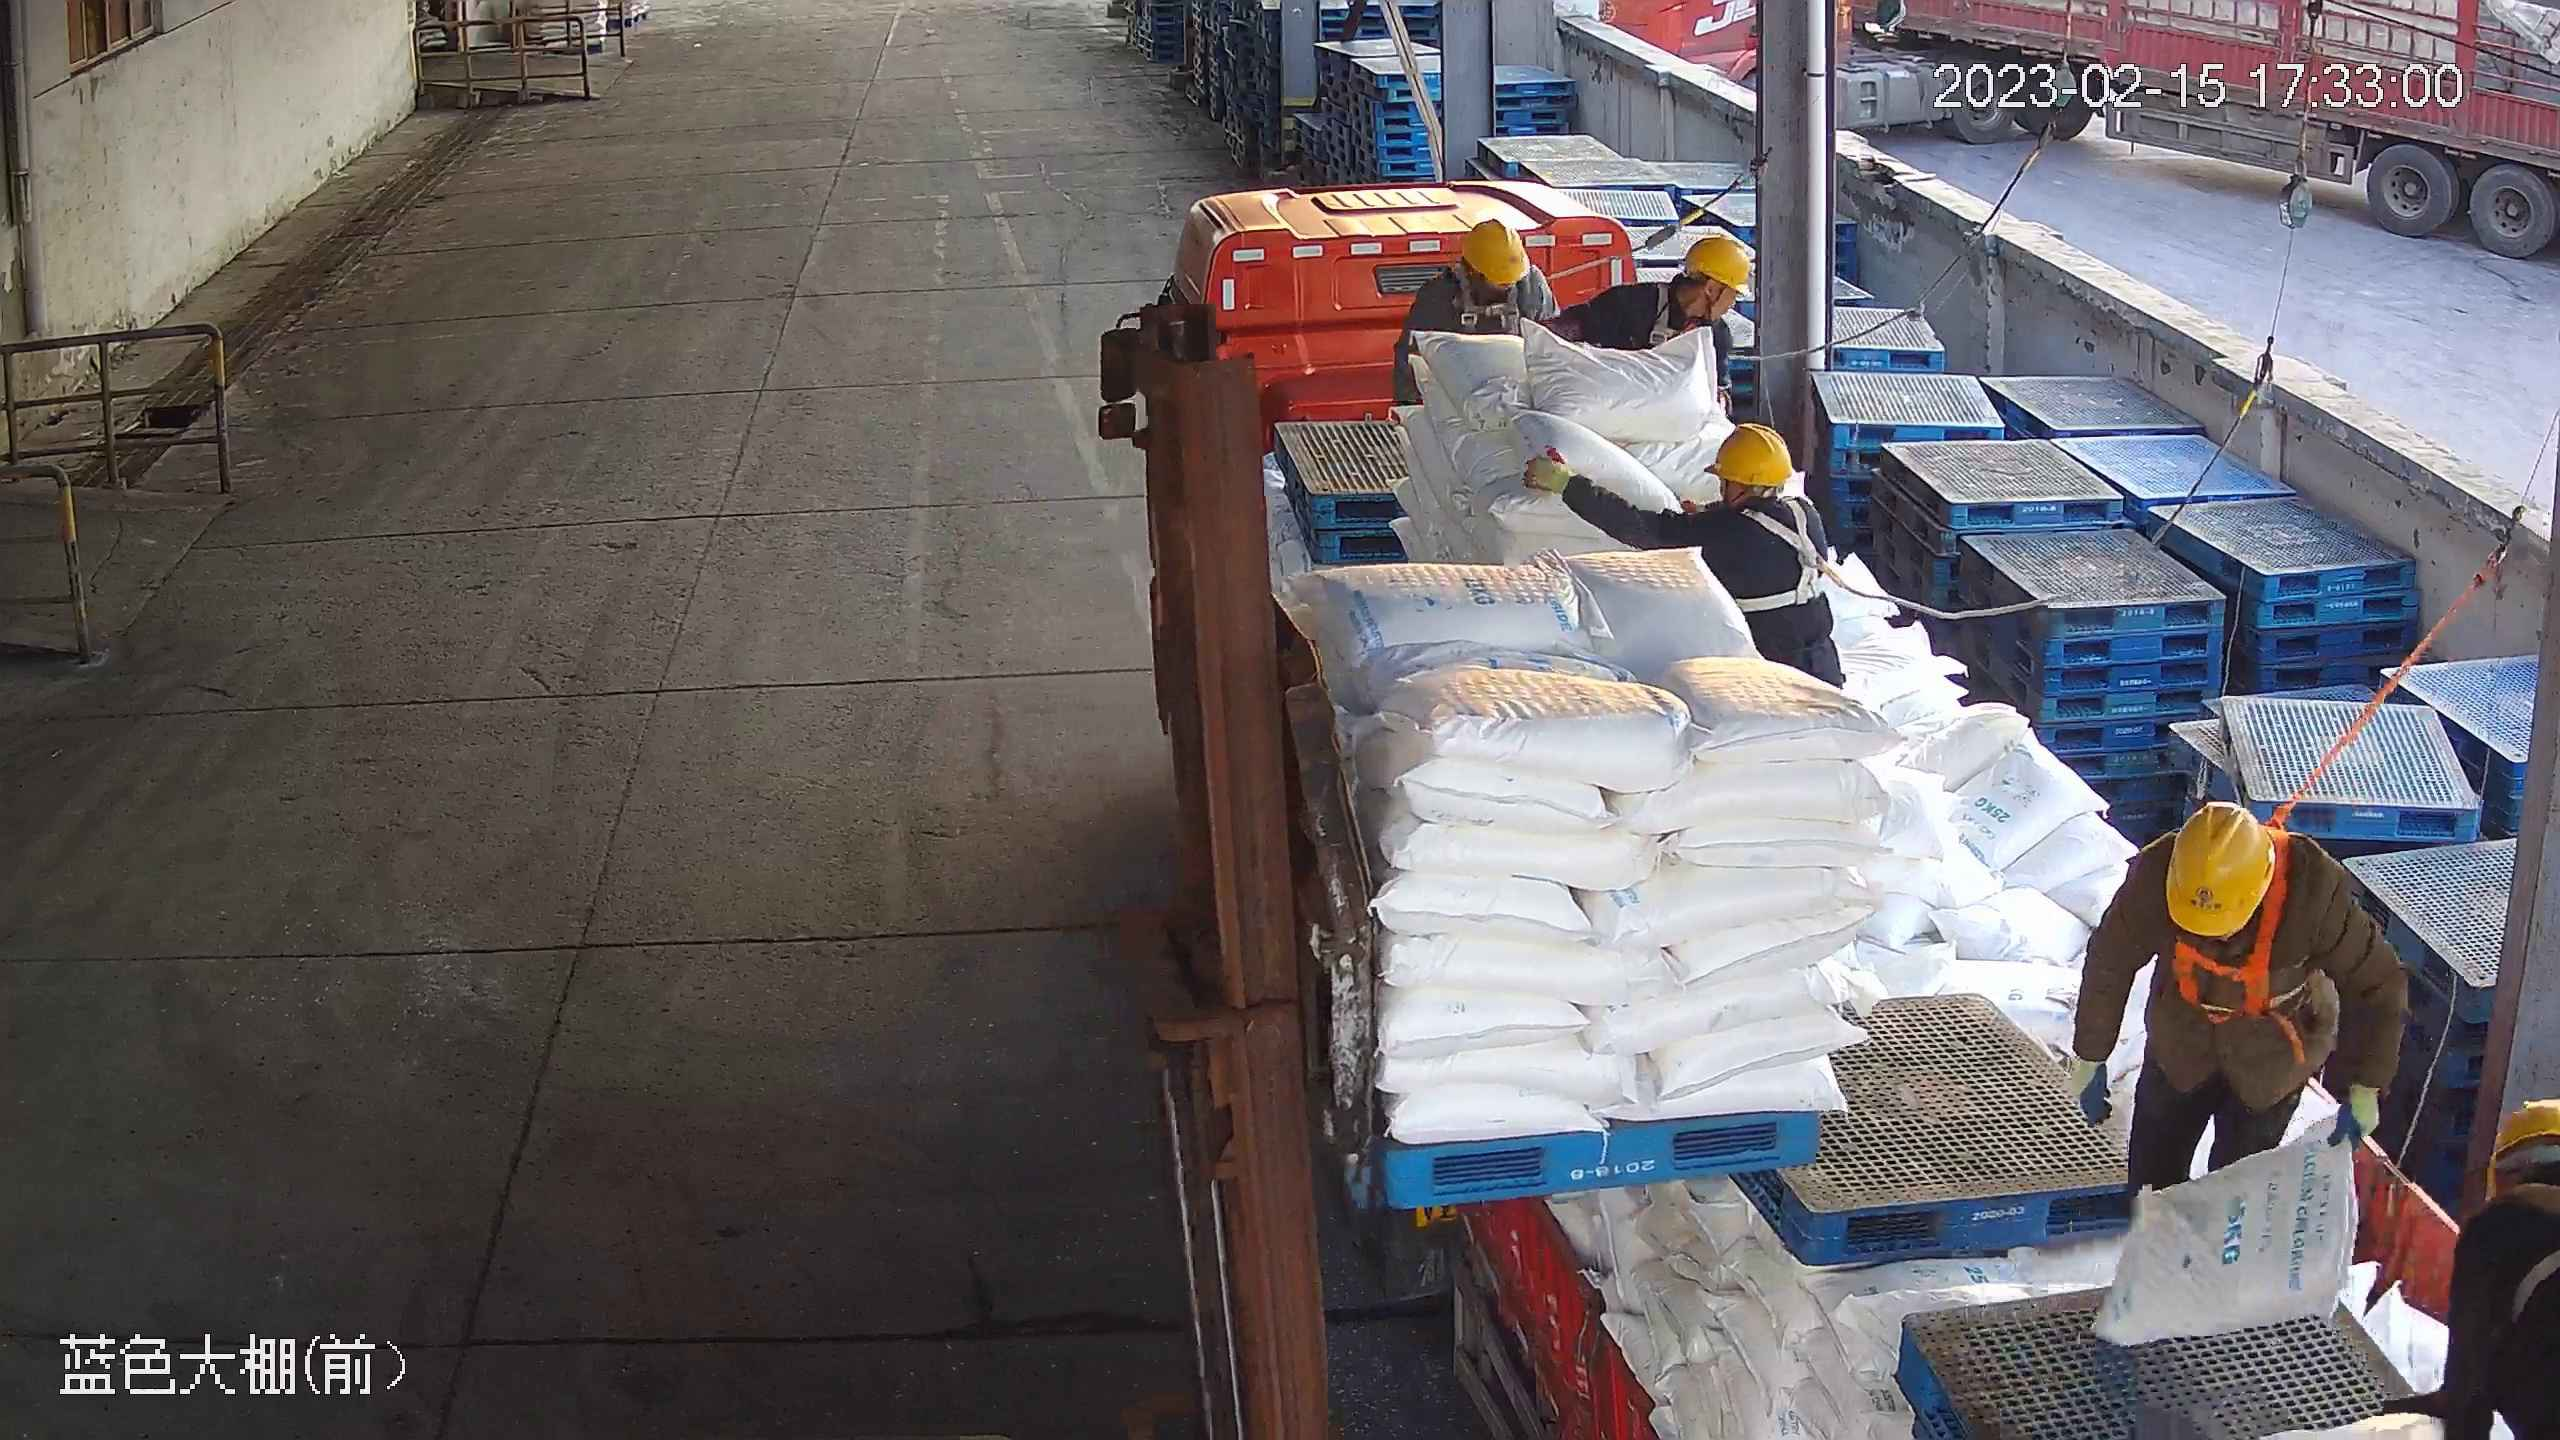belt: (2153, 827, 2302, 1028), (1714, 492, 1847, 615), (1643, 281, 1760, 378), (1445, 260, 1551, 336)
head: (2120, 800, 2358, 939), (1685, 422, 1831, 550), (1588, 235, 1751, 343), (1413, 219, 1552, 315)
helmet: (2165, 800, 2278, 939), (1703, 421, 1794, 489), (1461, 218, 1530, 286), (1685, 234, 1750, 296)
people: (2071, 800, 2408, 1211)
truck: (1141, 175, 2560, 1440)
